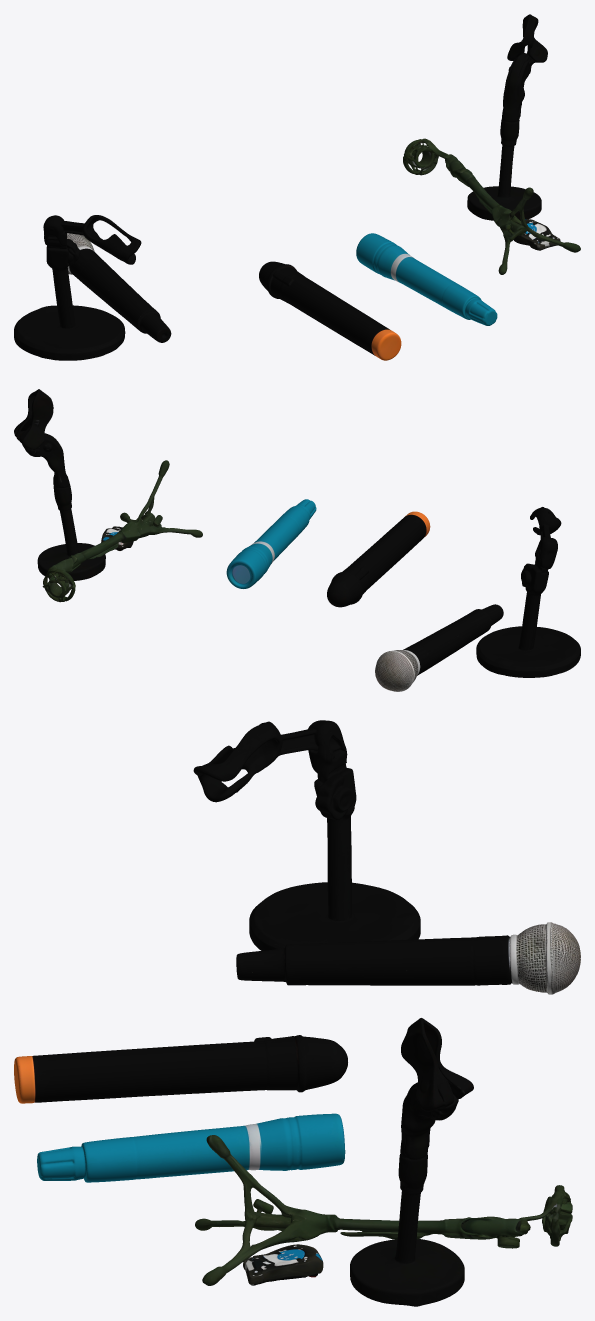
The model's file is simfoundry.glb.
3 renders of one model, top to bottom at view 1: azimuth 30°, elevation 25°; view 2: azimuth 150°, elevation 25°; view 3: azimuth 270°, elevation 25°, orthographic. The views are drawn at different scales.
Visible parts, largest first — view 1: black_shock_mount_zvppeh_link_iter_5_canonical_mesh_obj, black_microphone_with_orange_tip_pxftjb_link_iter_0_canonica, black_stand_with_round_base_xdofrg_link_iter_6_canonical_mes, blue_tube_toy_yyznln_link_iter_1_canonical_mesh_obj, black_microphone_sbjrvr_link_iter_4_canonical_mesh_obj, black_shock_mount_jxseya_link_iter_3_canonical_mesh_obj, blue_square_block_kreivu_link_iter_2_canonical_mesh_obj; view 2: black_shock_mount_zvppeh_link_iter_5_canonical_mesh_obj, black_stand_with_round_base_xdofrg_link_iter_6_canonical_mes, black_microphone_sbjrvr_link_iter_4_canonical_mesh_obj, black_microphone_with_orange_tip_pxftjb_link_iter_0_canonica, black_shock_mount_jxseya_link_iter_3_canonical_mesh_obj, blue_tube_toy_yyznln_link_iter_1_canonical_mesh_obj; view 3: black_shock_mount_zvppeh_link_iter_5_canonical_mesh_obj, black_microphone_with_orange_tip_pxftjb_link_iter_0_canonica, black_microphone_sbjrvr_link_iter_4_canonical_mesh_obj, black_stand_with_round_base_xdofrg_link_iter_6_canonical_mes, blue_tube_toy_yyznln_link_iter_1_canonical_mesh_obj, black_shock_mount_jxseya_link_iter_3_canonical_mesh_obj, blue_square_block_kreivu_link_iter_2_canonical_mesh_obj.
Part boxes in pixels (x1,y1,x2,y2): black_shock_mount_zvppeh_link_iter_5_canonical_mesh_obj: (14,215,141,360); black_microphone_with_orange_tip_pxftjb_link_iter_0_canonica: (259,261,401,360); black_stand_with_round_base_xdofrg_link_iter_6_canonical_mes: (467,14,547,220); blue_tube_toy_yyznln_link_iter_1_canonical_mesh_obj: (356,233,497,325); black_microphone_sbjrvr_link_iter_4_canonical_mesh_obj: (67,233,171,342); black_shock_mount_jxseya_link_iter_3_canonical_mesh_obj: (403,138,580,274); blue_square_block_kreivu_link_iter_2_canonical_mesh_obj: (514,219,560,250); black_shock_mount_zvppeh_link_iter_5_canonical_mesh_obj: (476,507,580,677); black_stand_with_round_base_xdofrg_link_iter_6_canonical_mes: (14,389,105,580); black_microphone_sbjrvr_link_iter_4_canonical_mesh_obj: (375,604,503,691); black_microphone_with_orange_tip_pxftjb_link_iter_0_canonica: (327,511,430,607); black_shock_mount_jxseya_link_iter_3_canonical_mesh_obj: (42,460,202,602); blue_tube_toy_yyznln_link_iter_1_canonical_mesh_obj: (226,499,316,588); black_shock_mount_zvppeh_link_iter_5_canonical_mesh_obj: (193,720,420,950); black_microphone_with_orange_tip_pxftjb_link_iter_0_canonica: (14,1035,347,1103); black_microphone_sbjrvr_link_iter_4_canonical_mesh_obj: (236,922,580,994); black_stand_with_round_base_xdofrg_link_iter_6_canonical_mes: (350,1018,473,1306); blue_tube_toy_yyznln_link_iter_1_canonical_mesh_obj: (37,1113,345,1182); black_shock_mount_jxseya_link_iter_3_canonical_mesh_obj: (195,1135,572,1285); blue_square_block_kreivu_link_iter_2_canonical_mesh_obj: (243,1244,323,1285).
Size of what is drawn, in the model's own units: 0.7842 by 0.2501 by 0.4432.
7 materials, 7 textured.
